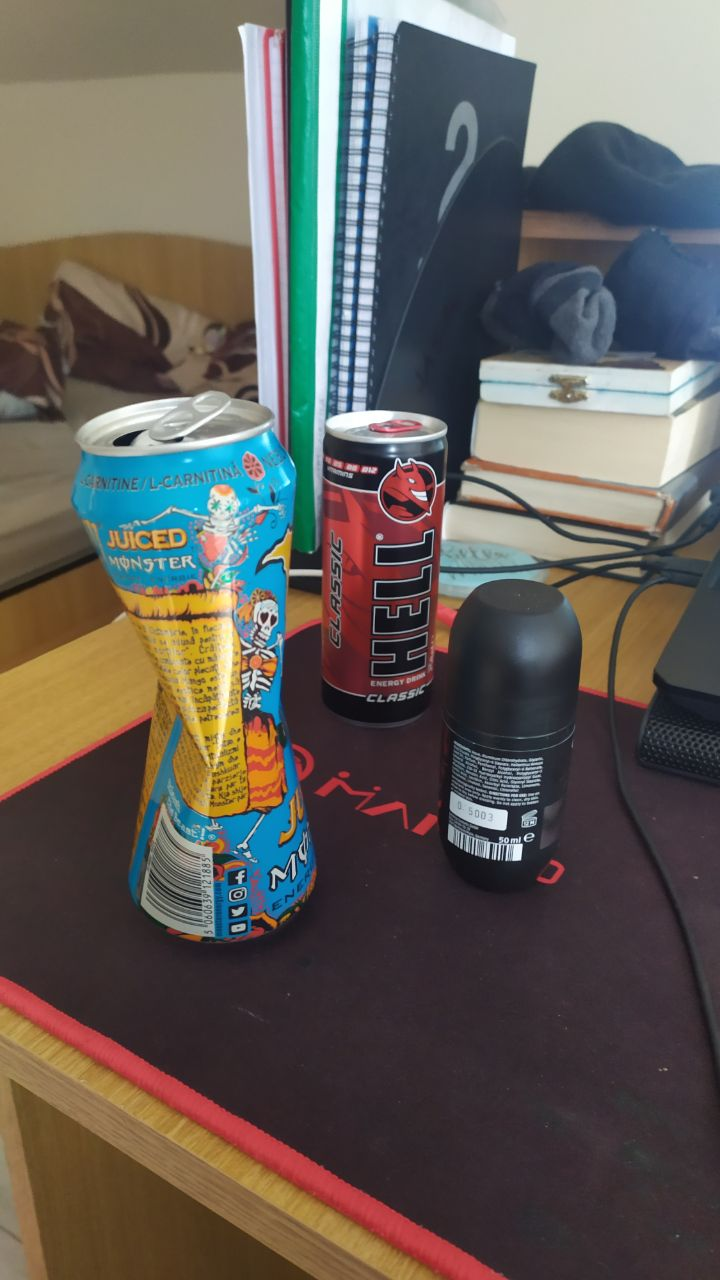Can: (65, 391, 315, 936), (315, 404, 452, 727)
